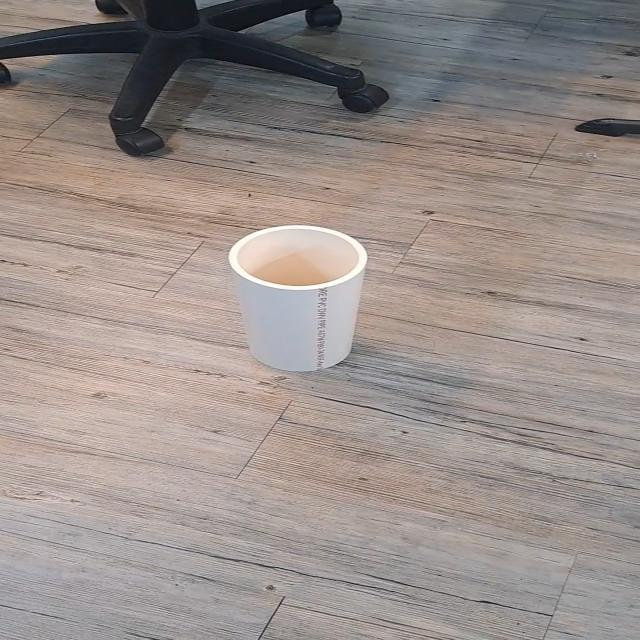CORAL: (199, 207, 428, 389)
